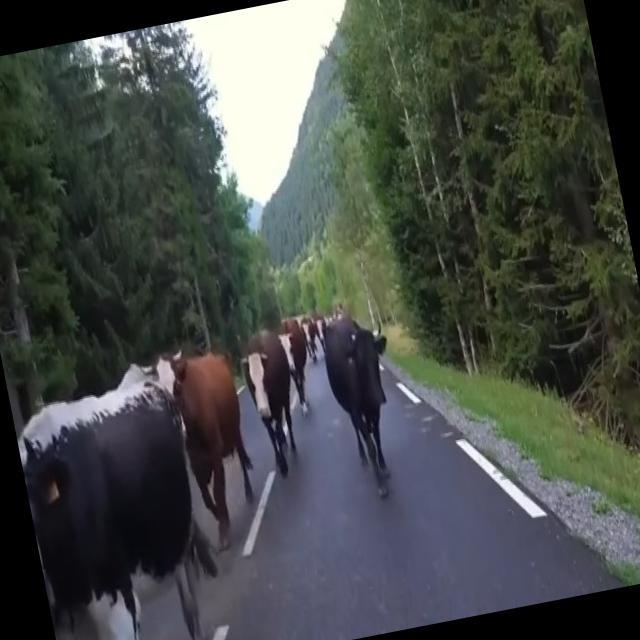COW: (18, 355, 253, 640), (325, 317, 388, 494), (243, 319, 309, 475)
